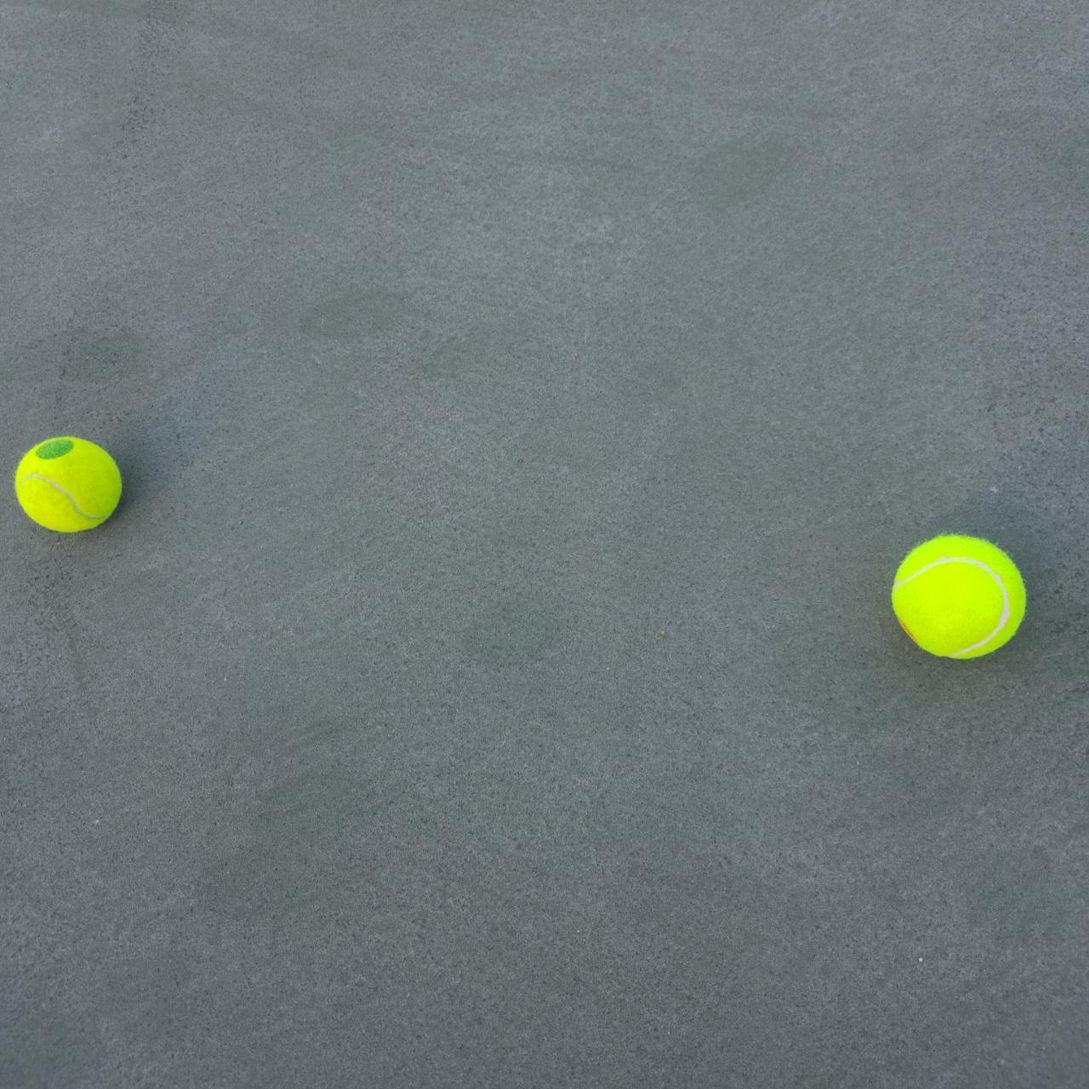tennis-ball: (889, 531, 1028, 660), (13, 433, 123, 534)
